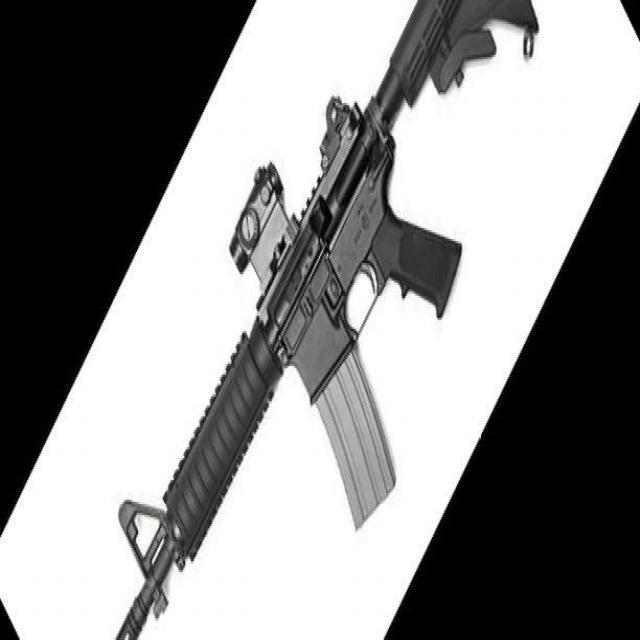weapon: (115, 0, 540, 640)
